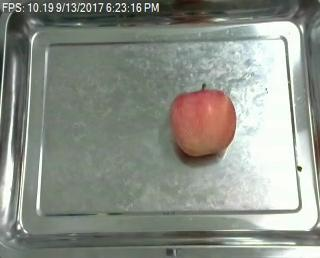apple: (168, 86, 236, 156)
